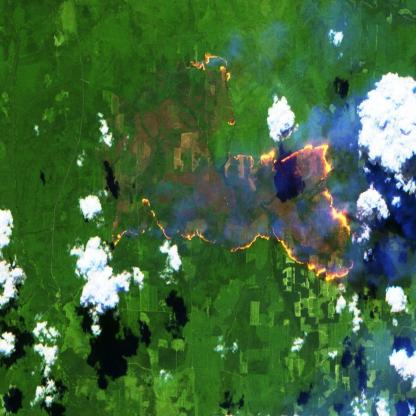fire: (113, 140, 357, 288), (186, 51, 238, 130)
